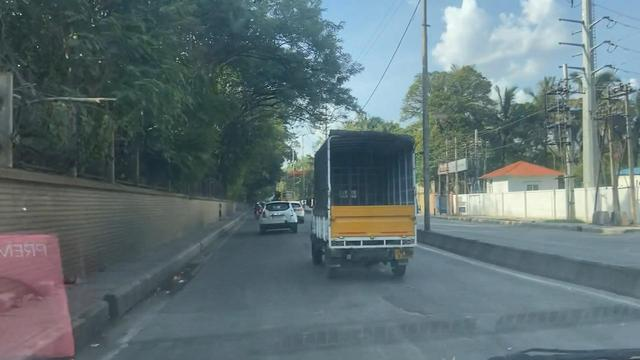HMV: (312, 131, 412, 275)
LMV: (260, 203, 298, 231)
RoadDamages: (362, 284, 448, 331)
